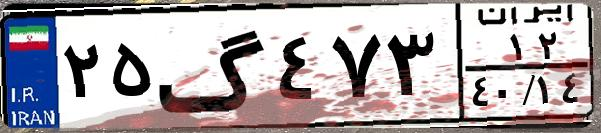0: (495, 70, 520, 125)
1: (508, 27, 537, 80), (535, 70, 560, 125)
2: (57, 26, 110, 100), (537, 27, 568, 80)
3: (385, 28, 445, 110)
4: (270, 28, 330, 110), (560, 70, 590, 125), (470, 70, 495, 125)
5: (110, 28, 156, 98)
7: (330, 28, 385, 110)
گ: (156, 12, 270, 120)
